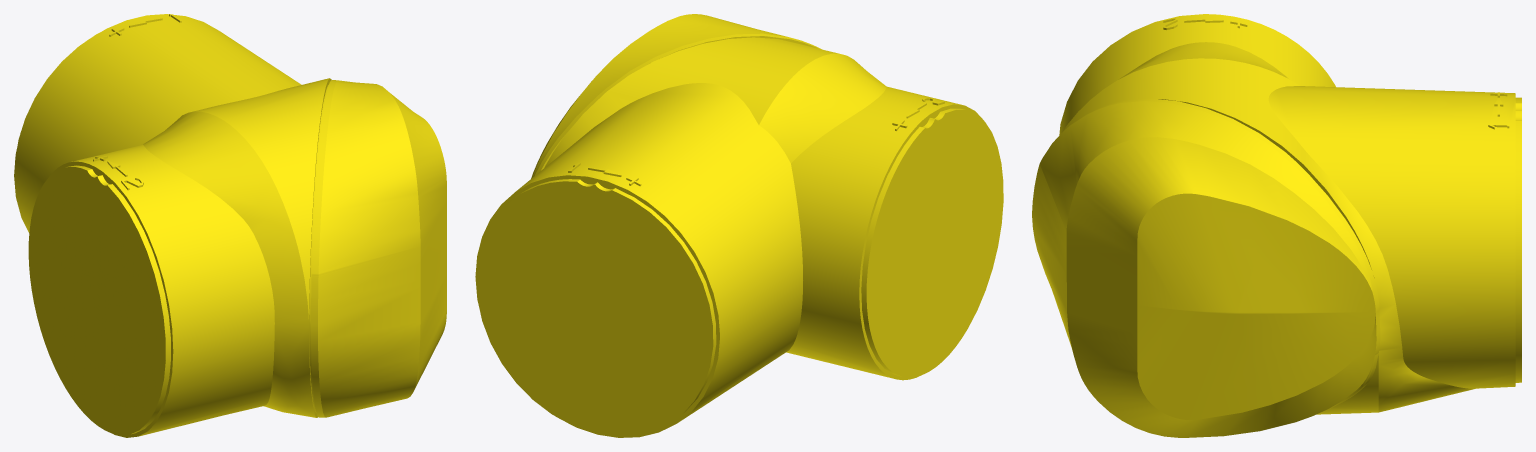
3 views of the same model, side by side, from view 1: azimuth 30°, elevation 25°; view 2: azimuth 150°, elevation 25°; view 3: azimuth 270°, elevation 25° (orthographic). The views are drawn at different scales.
Visible parts, largest first — view 1: TX40 SHOULDER; view 2: TX40 SHOULDER; view 3: TX40 SHOULDER.
Part boxes in pixels (<box>): TX40 SHOULDER: <box>14,14,446,437</box>; TX40 SHOULDER: <box>475,14,1003,437</box>; TX40 SHOULDER: <box>1032,14,1521,437</box>.
Bounding box in the file's own units: 190 × 161 × 233.
